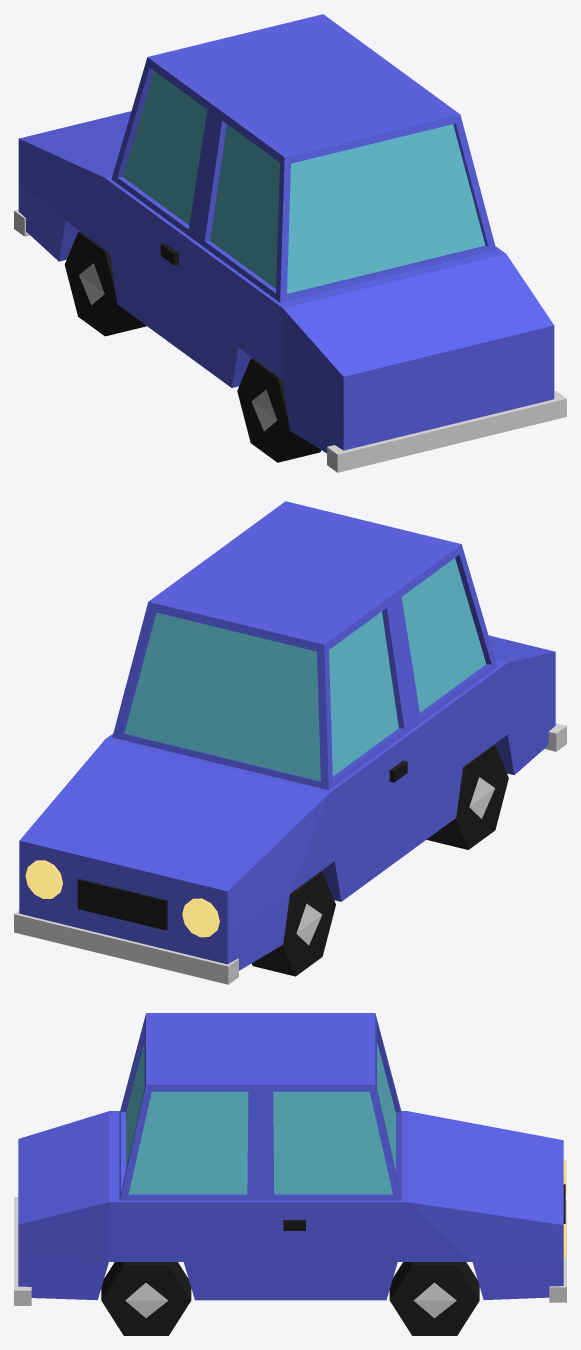
Rendered from car.fbx.
3 views of the same model, one above another, from view 1: azimuth 30°, elevation 25°; view 2: azimuth 150°, elevation 25°; view 3: azimuth 270°, elevation 25° (orthographic). The views are drawn at different scales.
Visible parts, largest first — view 1: car; view 2: car; view 3: car.
Boxes of the visible parts, x1,y1,x2,y2 form: car: [14, 14, 566, 472]; car: [14, 501, 566, 984]; car: [14, 1013, 566, 1335].
Size of the model in its own units: 1.58 by 1.89 by 3.9.
